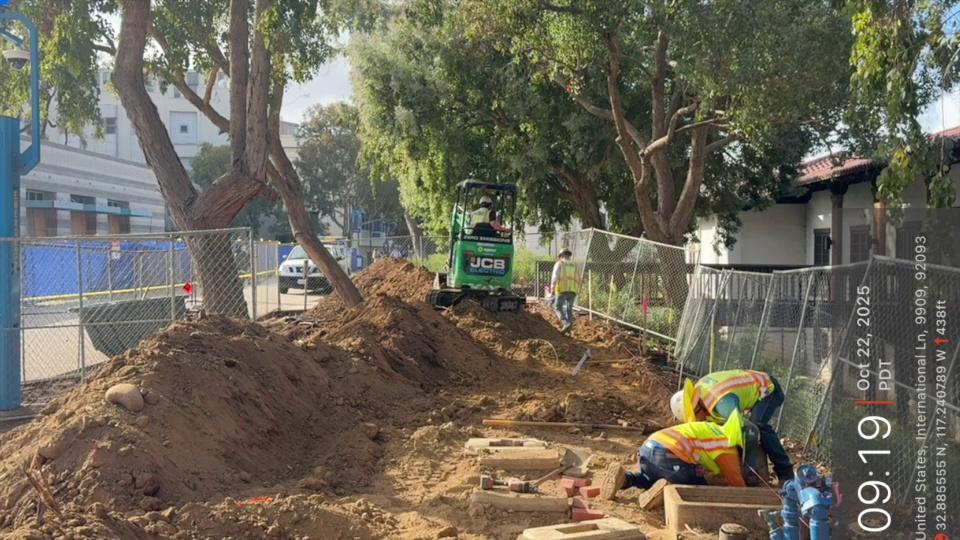Exacavator: (425, 177, 527, 316)
